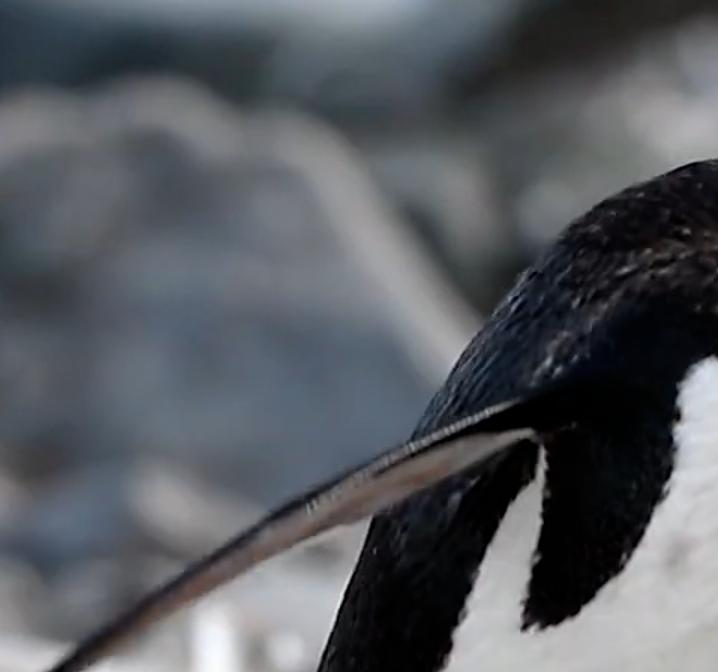Chinstrap Penguin: (27, 151, 718, 672)
